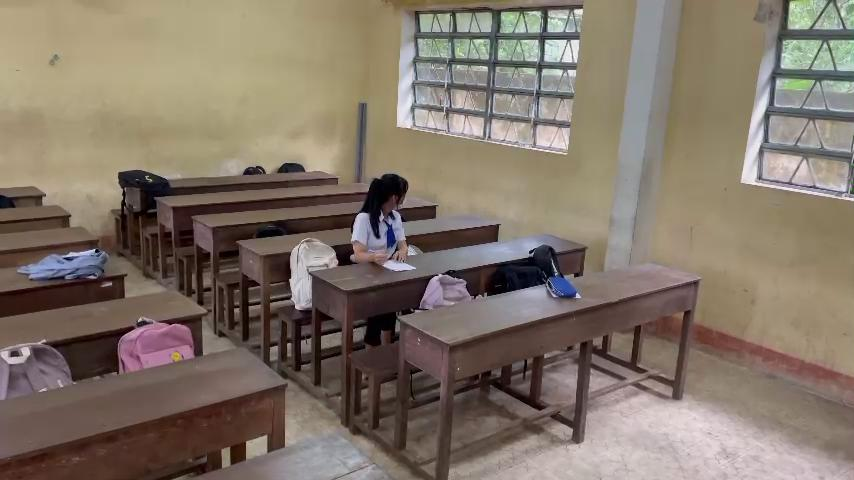Look Around: (359, 168, 415, 224)
